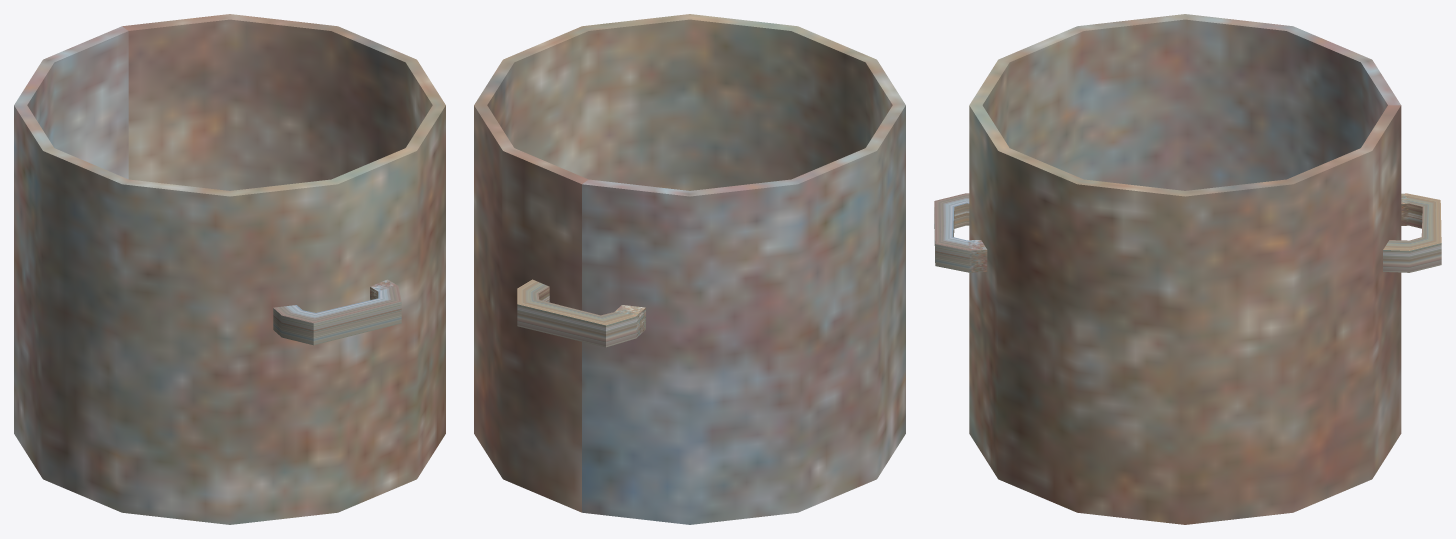
Rendered from olla.fbx.
The picture shows the model from 3 angles, left to right: view 1: azimuth 30°, elevation 25°; view 2: azimuth 150°, elevation 25°; view 3: azimuth 270°, elevation 25°; orthographic projection.
Parts seen in each view (by area): view 1: olla; view 2: olla; view 3: olla.
Part boxes in pixels (x1,y1,x2,y2): olla: (14,14,445,524); olla: (474,14,905,524); olla: (934,14,1441,524).
Bounding box in the file's own units: 24.93 × 20.92 × 29.27.
